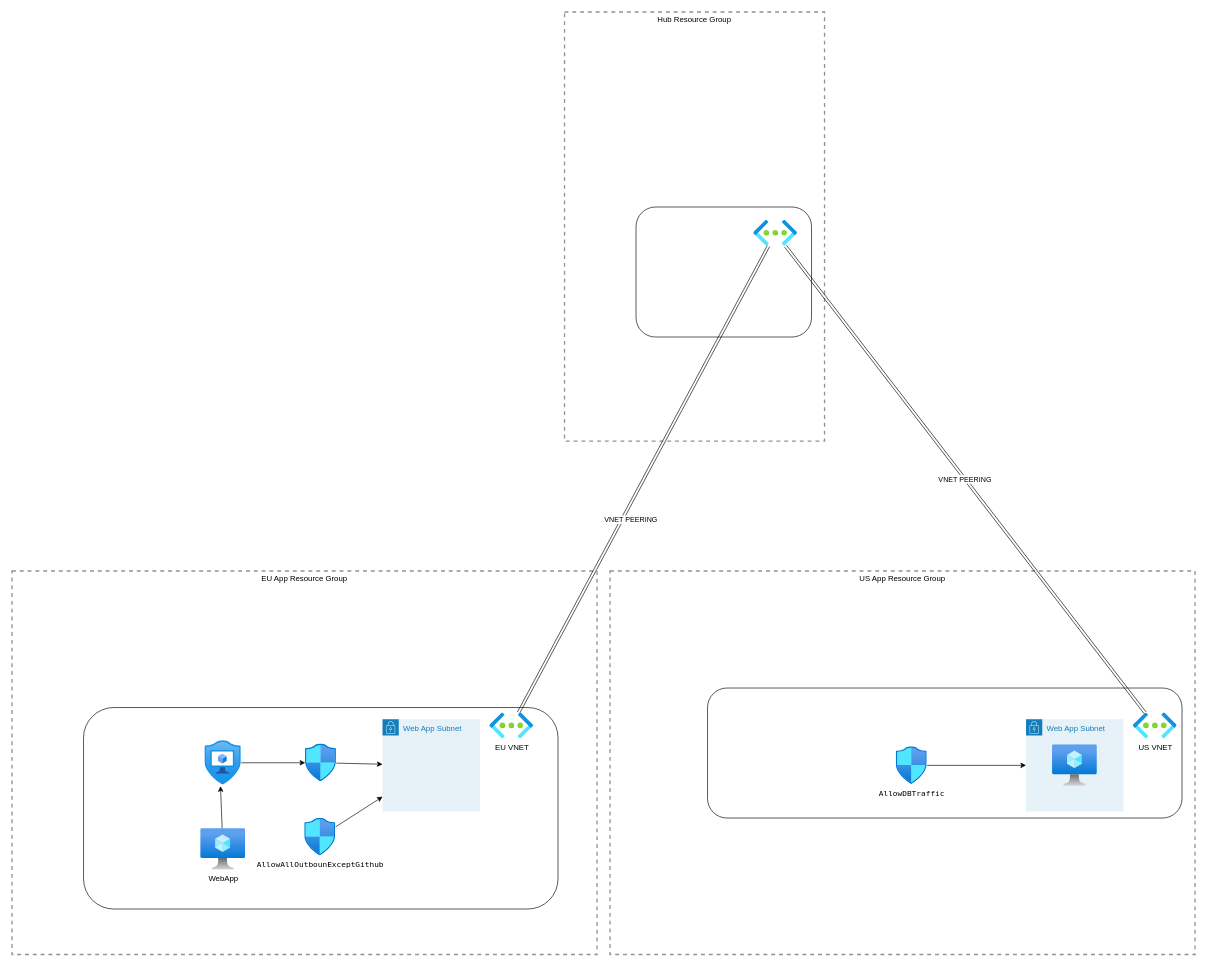
This 1206x966 diagram has some shape labels left out. The shapes that lost their labels are listed below. From the top down, each one's centre as x and y in pixels, then its label:
At (x=775, y=233): "Hub VNET".
At (x=222, y=762): "WebServerASG".
At (x=320, y=762): "AllowWebTraffic".
At (x=1074, y=765): "Db".
